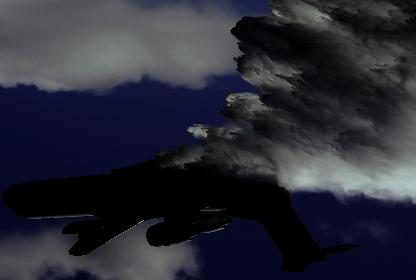B52: (0, 169, 364, 273)
